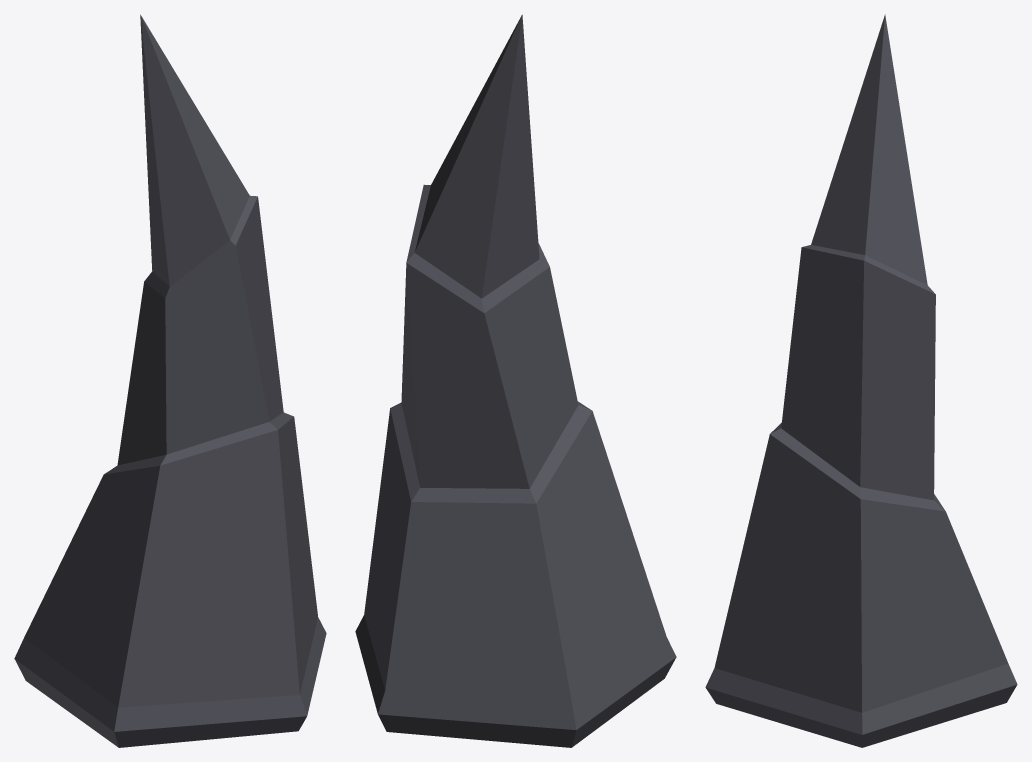
The model's file is Stalagmite_03.glb.
3 views of the same model, side by side, from view 1: azimuth 30°, elevation 25°; view 2: azimuth 150°, elevation 25°; view 3: azimuth 270°, elevation 25° (orthographic). The views are drawn at different scales.
Visible parts, largest first — view 1: Stalagmite_03; view 2: Stalagmite_03; view 3: Stalagmite_03.
Part boxes in pixels (x1=…): Stalagmite_03: x1=14, y1=14, x2=326, y2=747; Stalagmite_03: x1=355, y1=14, x2=676, y2=747; Stalagmite_03: x1=705, y1=14, x2=1017, y2=747.
Size of what is drawn, in the model's own units: 0.9015 by 2.19 by 0.9461.
1 material, 1 textured.
